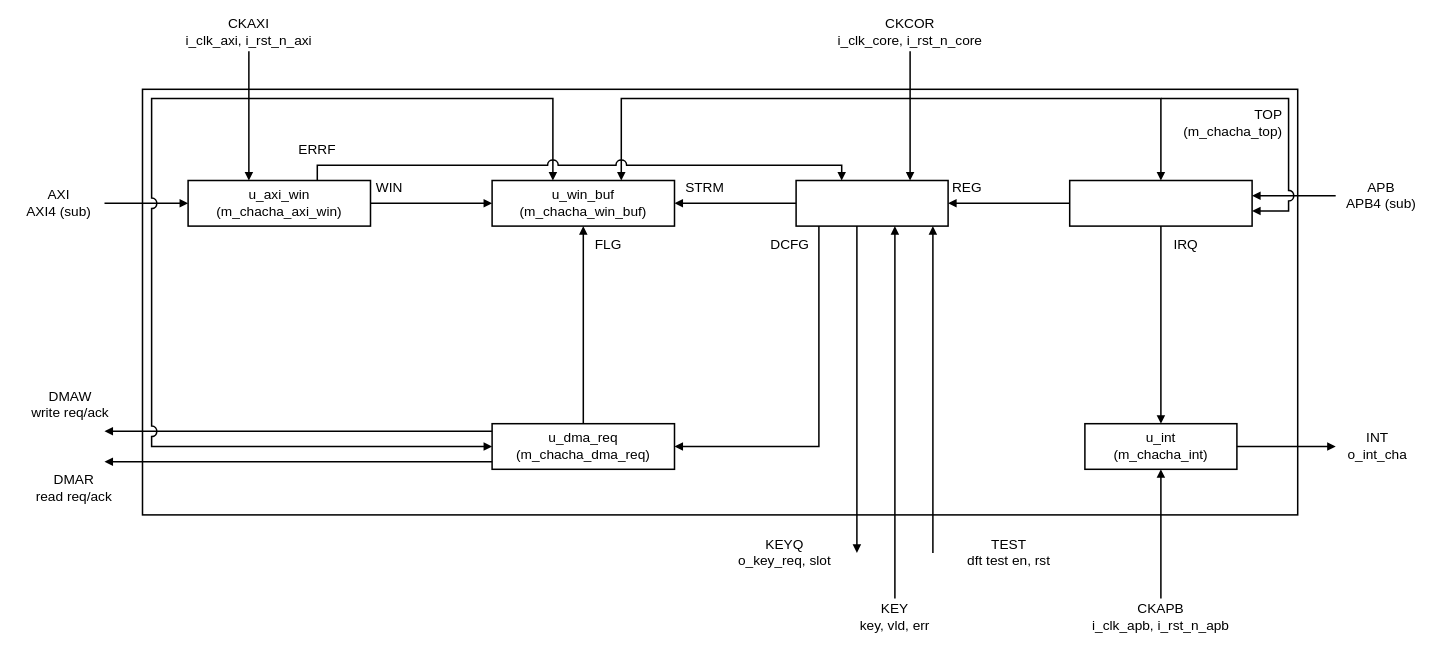
This 1439x649 diagram has some shape labels left out. The shapes that lost their labels are listed below. From the top down, each one's box as (x1, y1, x2, y2) in pixels, then its label:
(795, 179, 948, 226): u_core (m_chacha_core)
(1069, 179, 1252, 226): u_csr (m_vlsit_csr_chacha)
